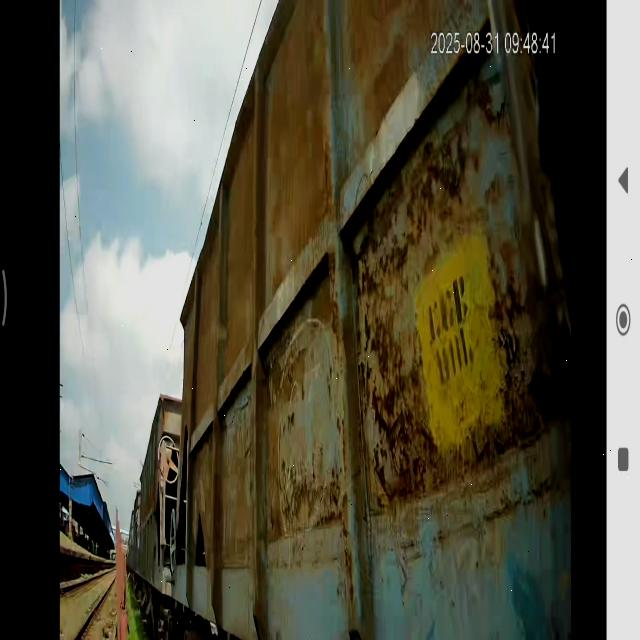coach: (182, 0, 576, 640)
